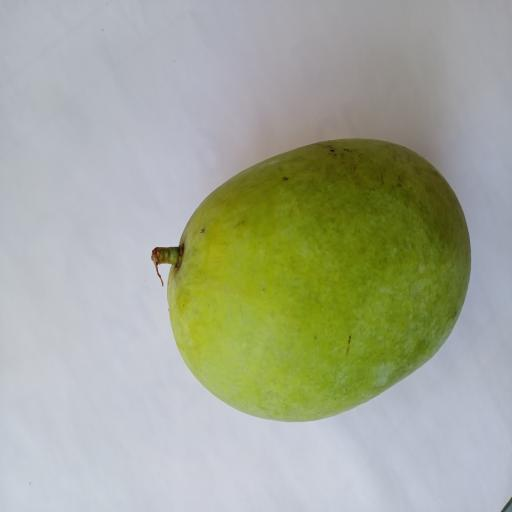mango-unripe: (130, 118, 480, 446)
